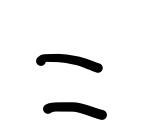eqv: (31, 49, 115, 122)
